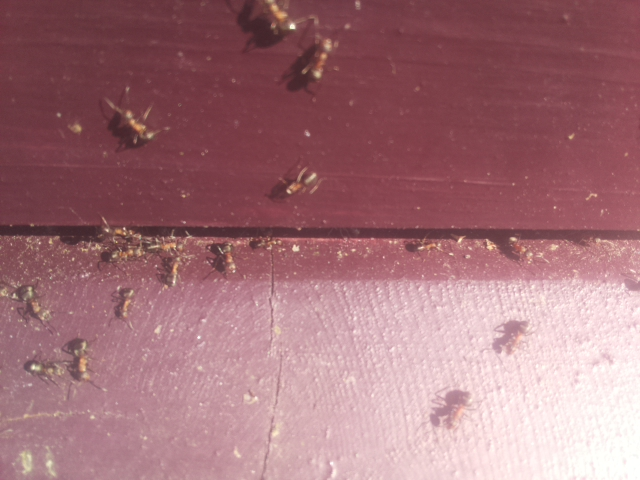ant: (99, 88, 167, 156), (266, 156, 329, 211), (295, 27, 345, 89), (8, 279, 59, 325), (440, 382, 474, 436), (258, 0, 301, 38), (68, 335, 96, 385), (501, 316, 532, 359), (214, 234, 238, 282), (20, 355, 67, 379), (506, 232, 535, 266), (112, 284, 136, 322), (402, 238, 450, 257), (159, 255, 183, 288)
